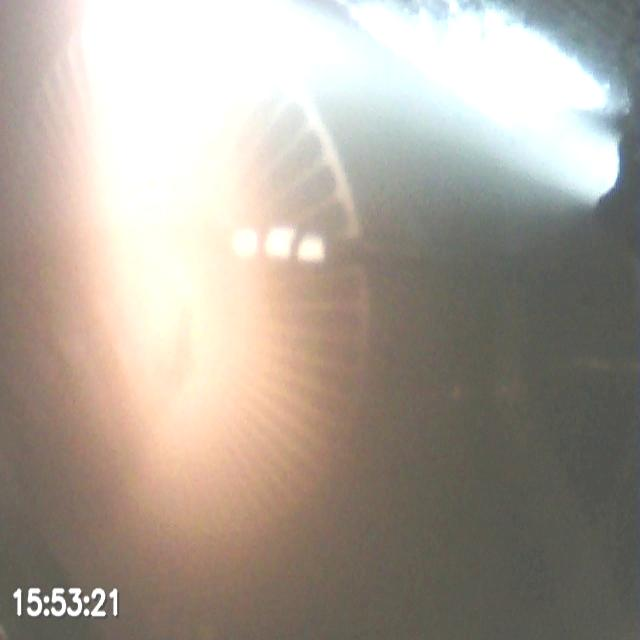white-dots: (230, 224, 329, 266)
